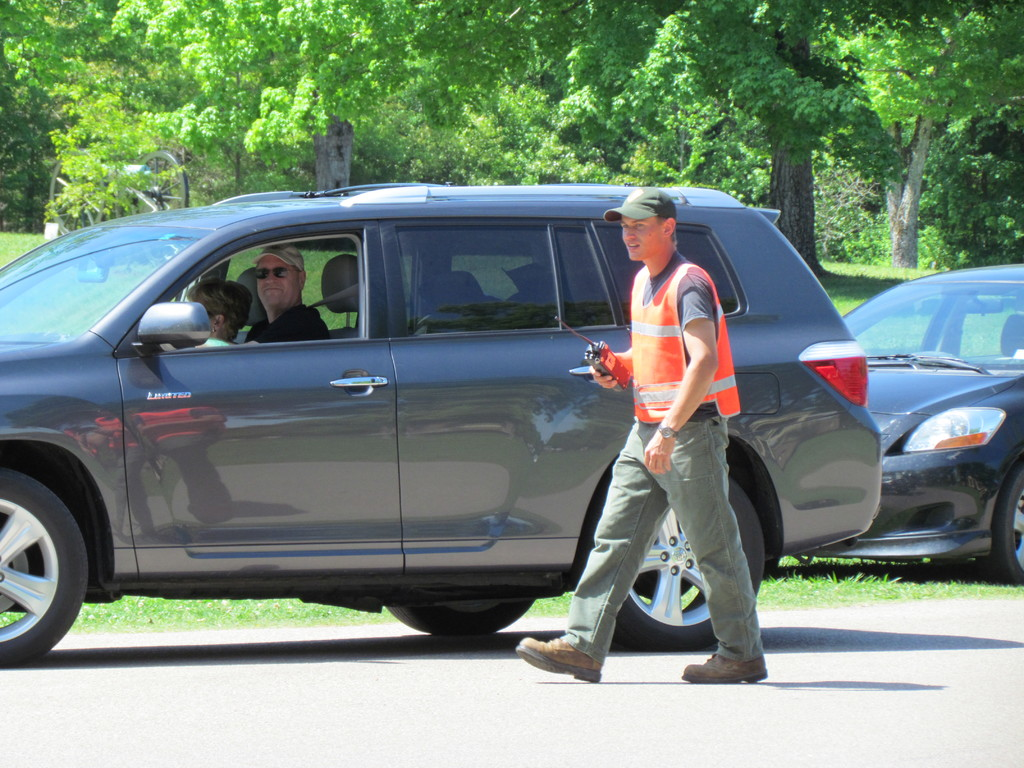Car: (0, 186, 898, 662), (789, 257, 1023, 581)
